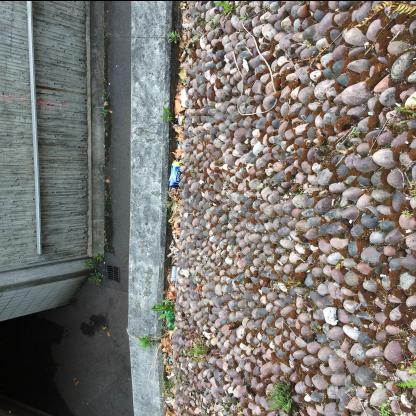plastik: (168, 158, 183, 188), (168, 265, 180, 287), (164, 307, 176, 329)
